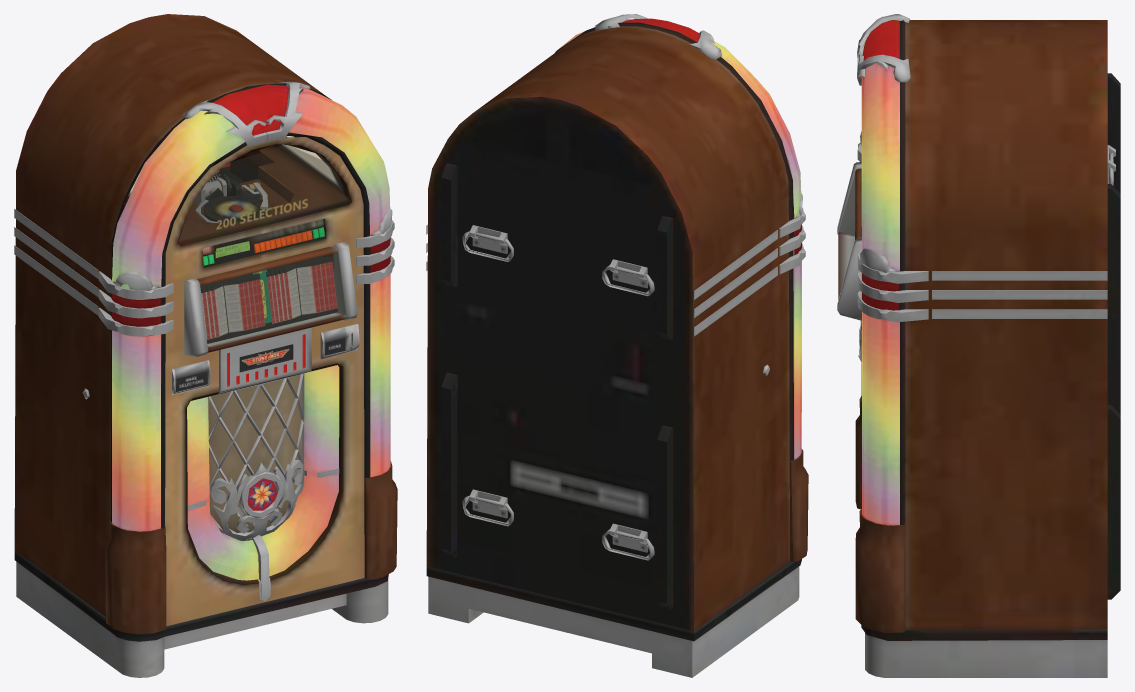
Rendered from jukebox.gltf.
3 renders of one model, left to right at view 1: azimuth 30°, elevation 25°; view 2: azimuth 150°, elevation 25°; view 3: azimuth 270°, elevation 25°, orthographic. The views are drawn at different scales.
Visible parts, largest first — view 1: Vintage_Jukebox_Jukebox_Main_0, Vintage_Jukebox_Jukebox_Emission_0, Vintage_Jukebox_Jukebox_Alpha_0, Vintage_Jukebox_Jukebox_Titles_0; view 2: Vintage_Jukebox_Jukebox_Main_0, Vintage_Jukebox_Jukebox_Emission_0; view 3: Vintage_Jukebox_Jukebox_Main_0, Vintage_Jukebox_Jukebox_Emission_0, Vintage_Jukebox_Jukebox_Alpha_0.
Part boxes in pixels (box(x1,y1,x2,y2)): Vintage_Jukebox_Jukebox_Main_0: box(14, 14, 397, 677); Vintage_Jukebox_Jukebox_Emission_0: box(112, 84, 390, 580); Vintage_Jukebox_Jukebox_Alpha_0: box(179, 145, 346, 347); Vintage_Jukebox_Jukebox_Titles_0: box(201, 261, 337, 339); Vintage_Jukebox_Jukebox_Main_0: box(426, 14, 808, 677); Vintage_Jukebox_Jukebox_Emission_0: box(558, 18, 801, 459); Vintage_Jukebox_Jukebox_Main_0: box(837, 14, 1120, 677); Vintage_Jukebox_Jukebox_Emission_0: box(861, 19, 899, 525); Vintage_Jukebox_Jukebox_Alpha_0: box(839, 175, 854, 296).
Size of the model in its own units: 0.8611 by 1.59 by 0.7091.
4 materials, 4 textured.
